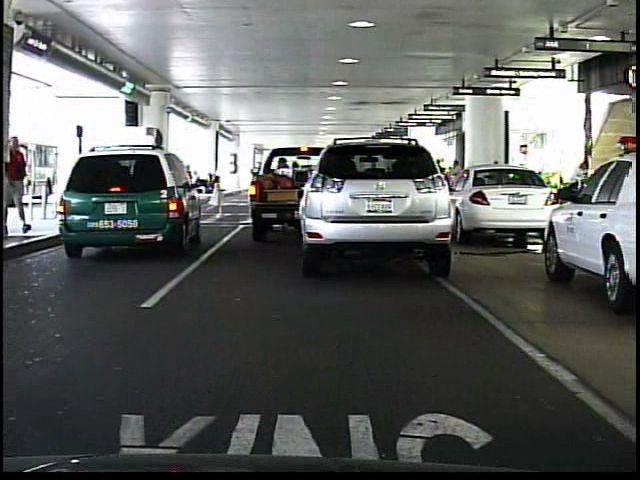person: (9, 132, 36, 241), (206, 169, 233, 223), (449, 156, 464, 179)
